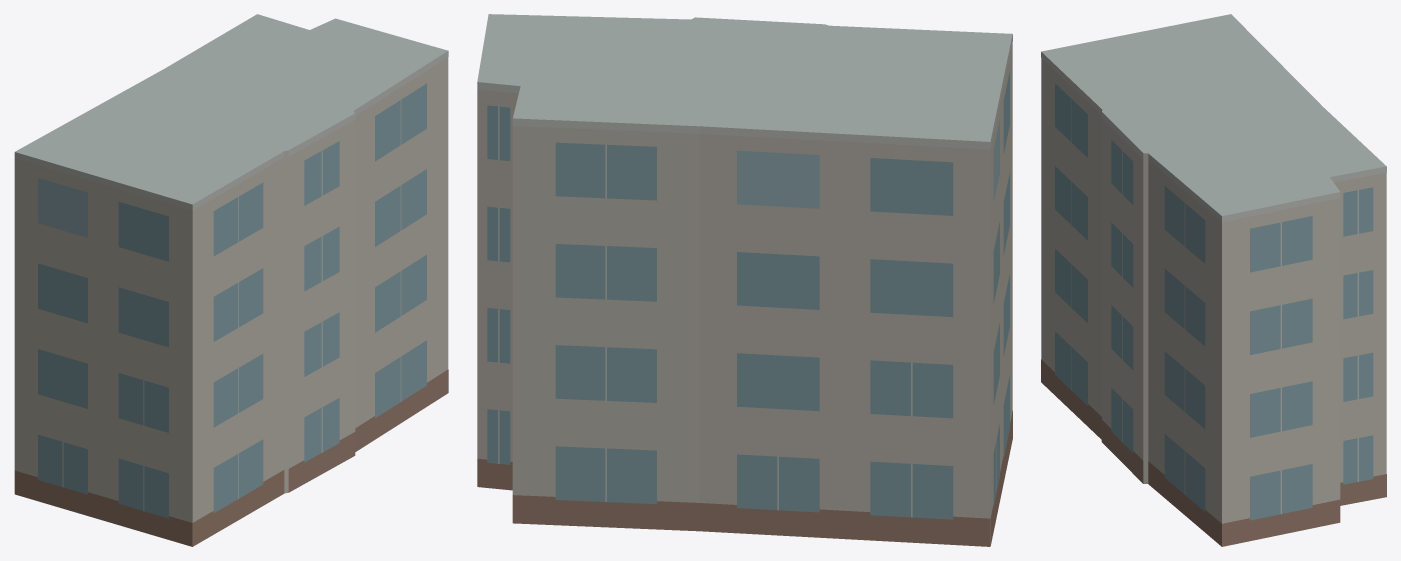
The model's file is survey-upis-32758090.glb.
The picture shows the model from 3 angles, left to right: view 1: azimuth 30°, elevation 25°; view 2: azimuth 150°, elevation 25°; view 3: azimuth 270°, elevation 25°; orthographic projection. The views are drawn at different scales.
Visible parts, largest first — view 1: survey-upis-32758090.tmp; view 2: survey-upis-32758090.tmp; view 3: survey-upis-32758090.tmp.
Boxes of the visible parts, x1=… form: survey-upis-32758090.tmp: x1=14, y1=14, x2=448, y2=546; survey-upis-32758090.tmp: x1=477, y1=14, x2=1012, y2=546; survey-upis-32758090.tmp: x1=1041, y1=14, x2=1386, y2=546.
Bounding box in the file's own units: 17.32 × 13.2 × 12.52.
